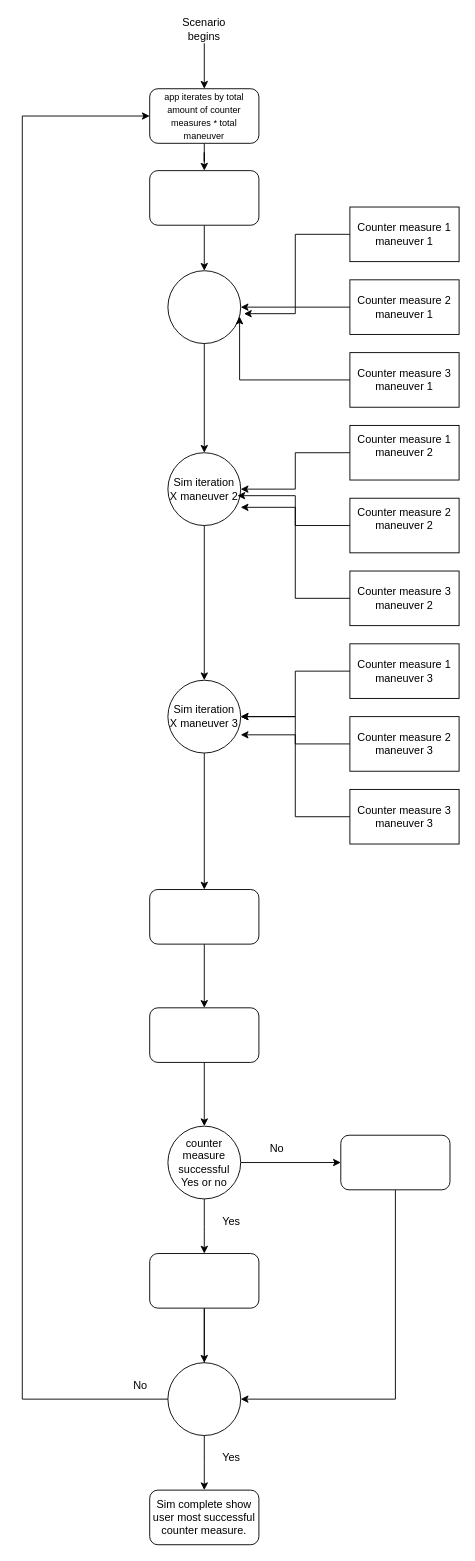
Image size: 475x1561. Some labels were removed from this diagram. Here are the shapes that lost their labels. From the top down, the centre of each, then its label:
(204,197): New method name "counter measure iteration value"
(204,307): Sim iteration X maneuver 1
(204,916): New counter measure made
(204,1034): Perform sim
(395,1162): Log report as fail
(204,1280): Log report as successful.
(204,1399): Last iteration Yes or No?
